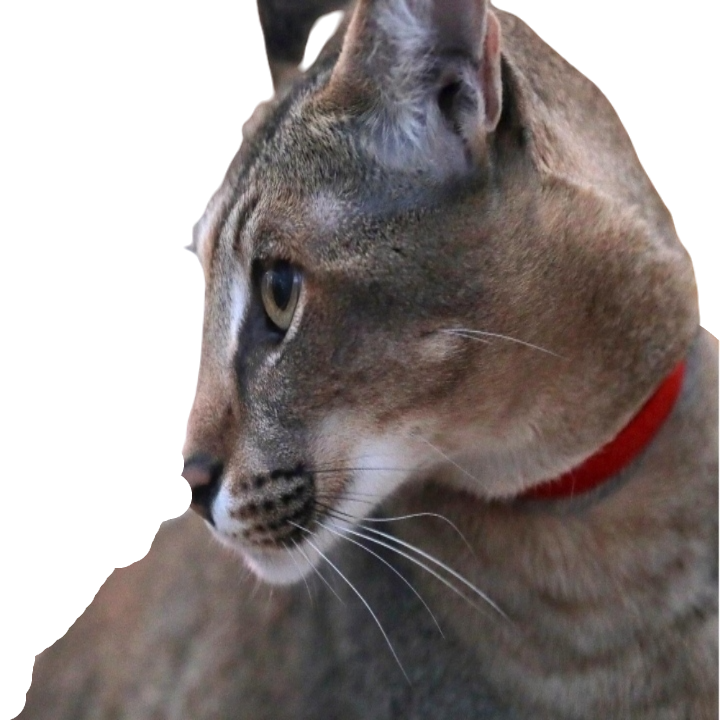Cat: (0, 0, 720, 719)
